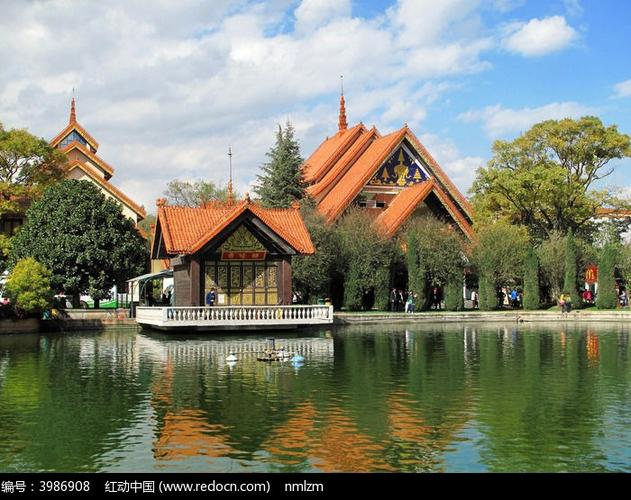buildings: (294, 83, 474, 283), (135, 176, 322, 336)
